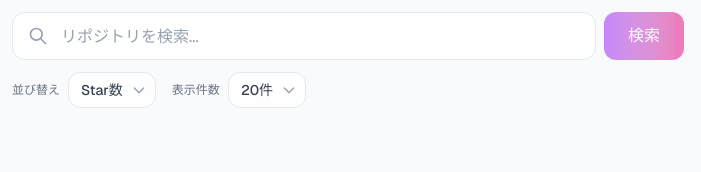
Test: SearchForm › button is enabled when input has text
This screenshot has width=701, height=172.
Type "react" into the field with placeholder "リポジトリを検索..." at (304, 36), box [12, 12, 596, 60]
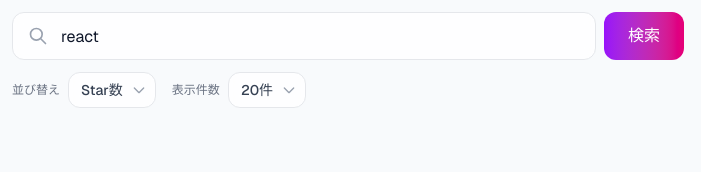
expect the button "検索" is enabled: met, box [604, 12, 684, 60]
